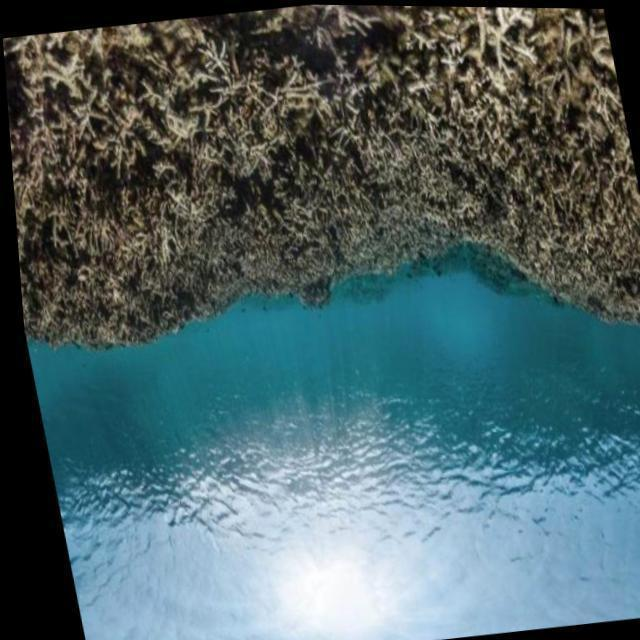Dead Coral: (0, 0, 627, 376)
